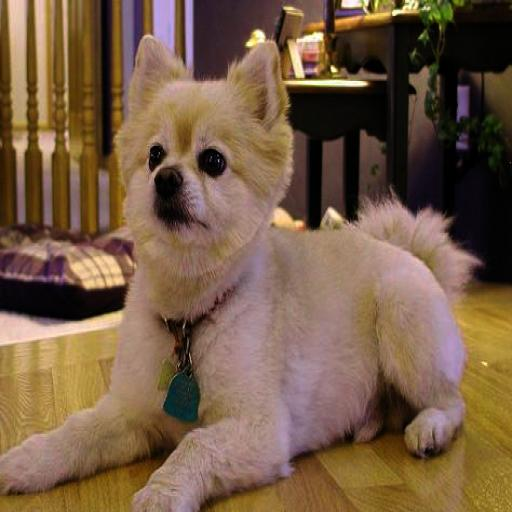dog_face: (110, 37, 281, 270)
